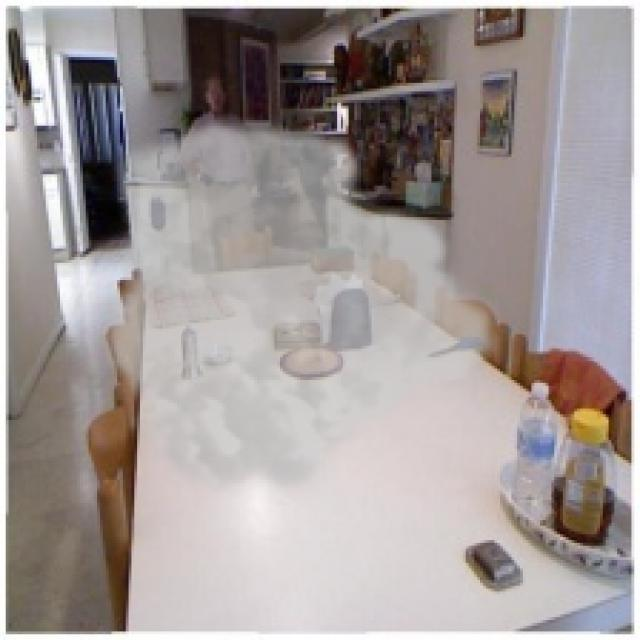Smoke: (100, 111, 506, 506)
